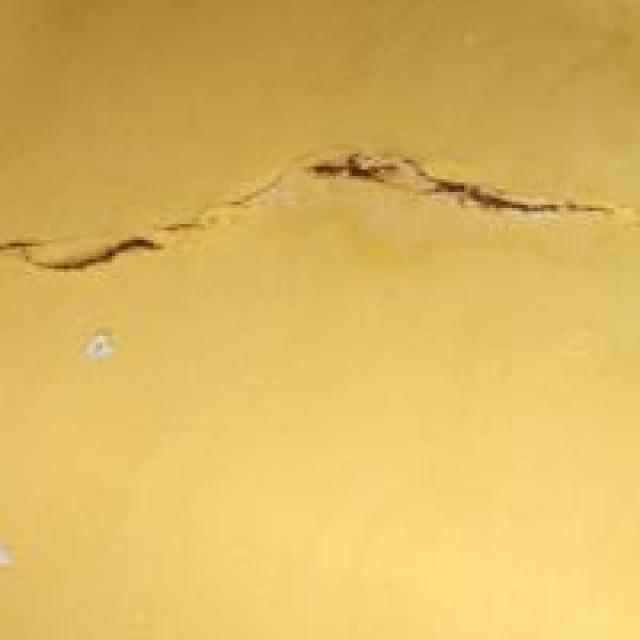Crack: (0, 80, 592, 397)
